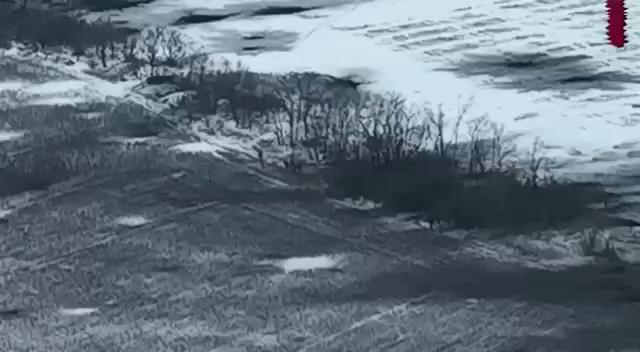person: (428, 217, 434, 232), (283, 158, 290, 169), (258, 148, 262, 167), (298, 163, 304, 175), (290, 159, 294, 176)
